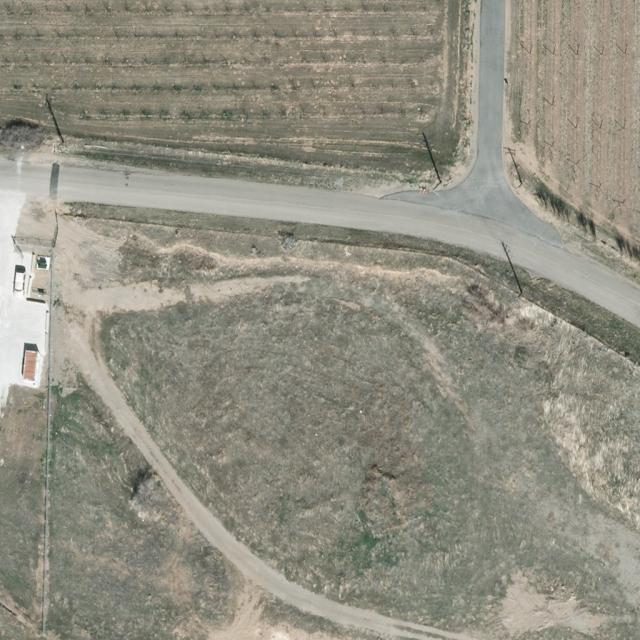vehicle: (12, 270, 27, 298)
